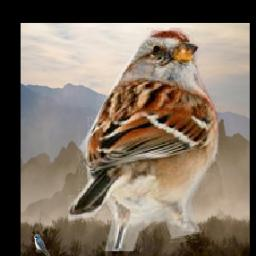Sparrow: (68, 28, 220, 251)
Swallow: (34, 235, 51, 256)
